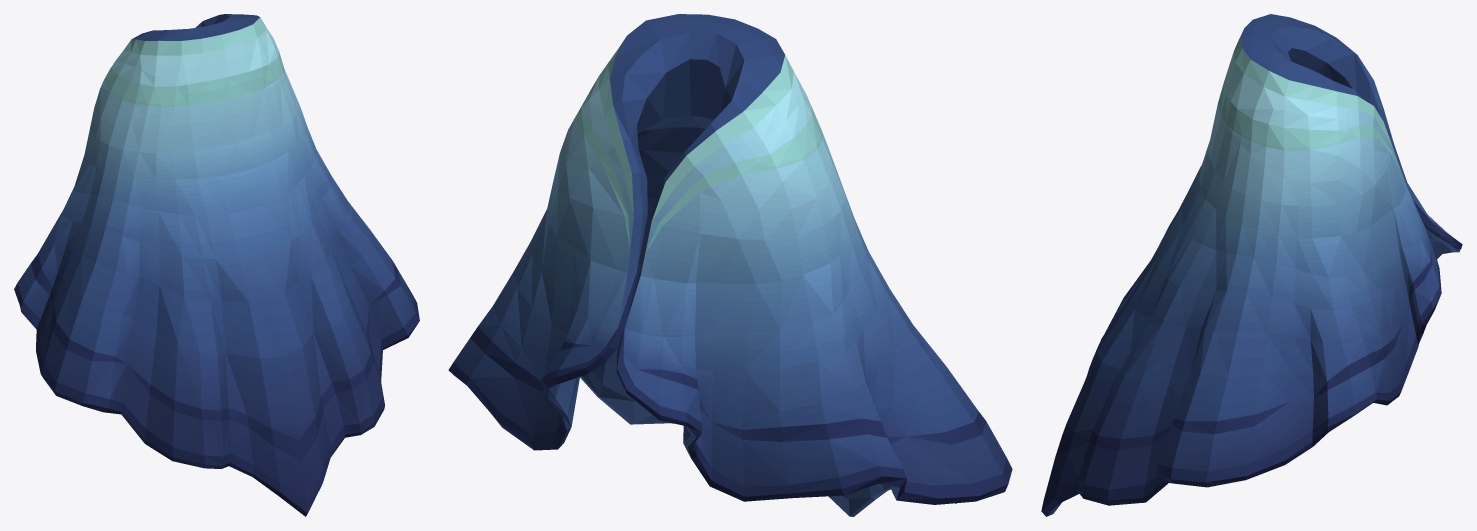
The model's file is CharSkyKid_Wing_WaterWave.glb.
3 renders of one model, left to right at view 1: azimuth 30°, elevation 25°; view 2: azimuth 150°, elevation 25°; view 3: azimuth 270°, elevation 25°, orthographic. The views are drawn at different scales.
Parts seen in each view (by area): view 1: CharSkyKid_Wing_WaterWave; view 2: CharSkyKid_Wing_WaterWave; view 3: CharSkyKid_Wing_WaterWave.
Boxes of the visible parts, box(x1,y1,x2,y2) form: CharSkyKid_Wing_WaterWave: box(14, 14, 419, 516); CharSkyKid_Wing_WaterWave: box(448, 14, 1012, 516); CharSkyKid_Wing_WaterWave: box(1041, 14, 1462, 516).
Size of the model in its own units: 7.24 by 8.01 by 6.37.
Materials: 1 (1 with a texture image).
